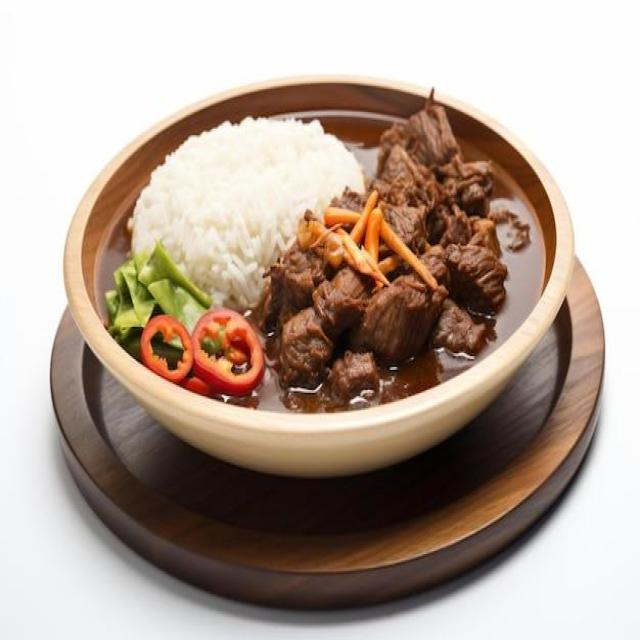Rawon: (247, 80, 557, 422)
